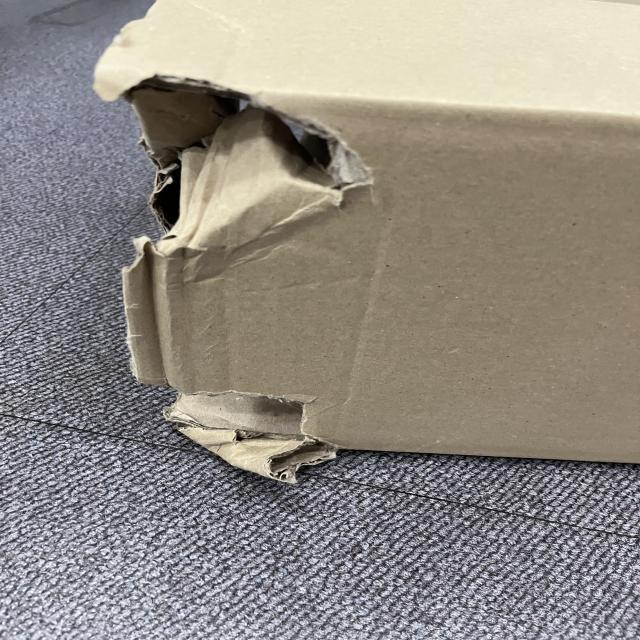hole: (120, 67, 370, 251), (135, 377, 327, 463)
